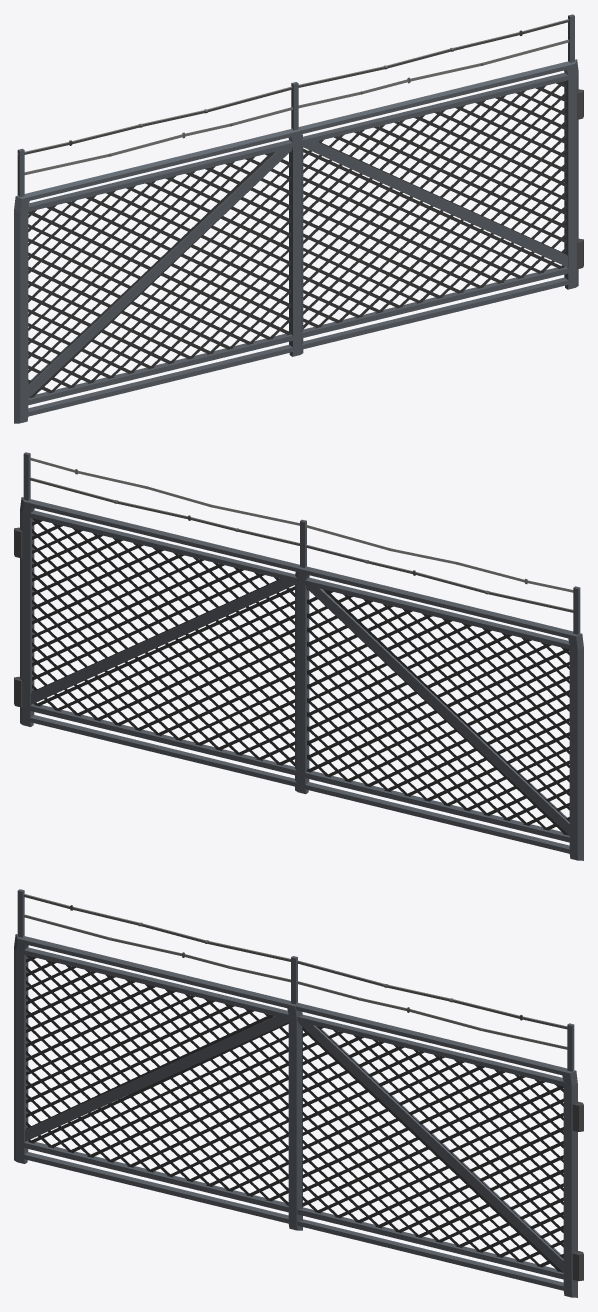
The model's file is SM_Prop_Fence_Gate_Open_01.glb.
3 views of the same model, one above another, from view 1: azimuth 30°, elevation 25°; view 2: azimuth 150°, elevation 25°; view 3: azimuth 330°, elevation 25° (orthographic).
Parts seen in each view (by area): view 1: SM_Prop_Fence_Gate_Open_01; view 2: SM_Prop_Fence_Gate_Open_01; view 3: SM_Prop_Fence_Gate_Open_01.
Boxes of the visible parts, <box> form: SM_Prop_Fence_Gate_Open_01: <box>14,14,583,423</box>; SM_Prop_Fence_Gate_Open_01: <box>14,452,583,860</box>; SM_Prop_Fence_Gate_Open_01: <box>14,889,583,1297</box>.
Size of the model in its own units: 5.98 by 2.72 by 0.0803.
Materials: 2 (2 with a texture image).
